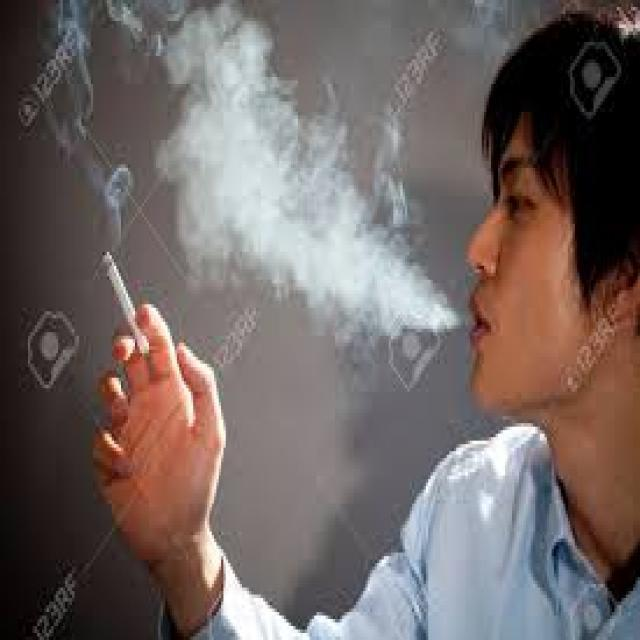rokok: (94, 243, 148, 353)
